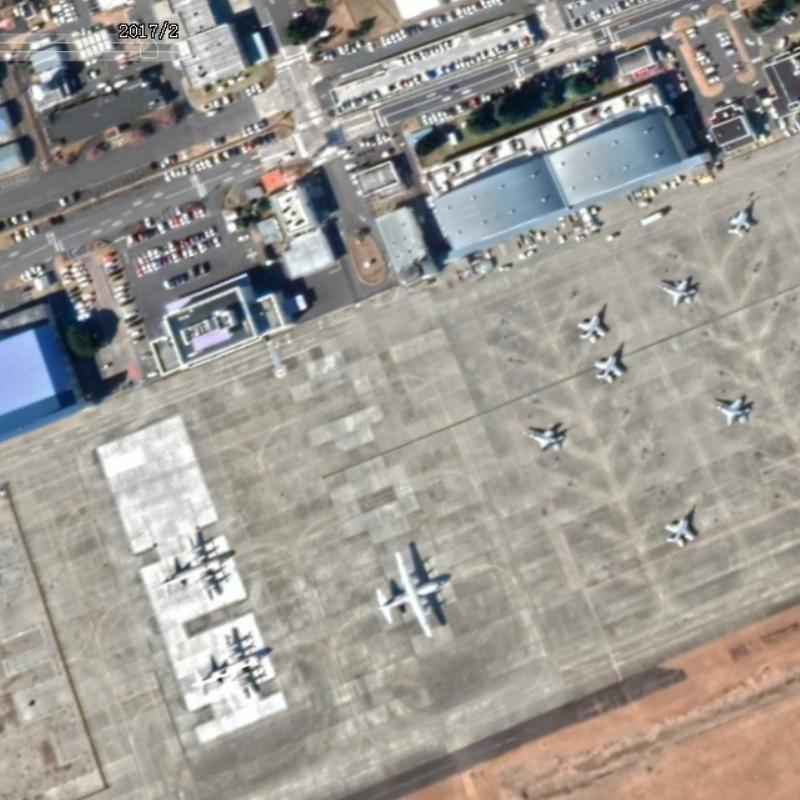A16: (655, 496, 704, 549), (704, 388, 758, 428), (650, 270, 706, 308), (570, 297, 614, 344), (518, 416, 571, 454), (587, 342, 631, 386), (722, 194, 764, 238)
A2: (361, 544, 453, 643)
A9: (189, 623, 281, 705), (150, 520, 236, 601)
